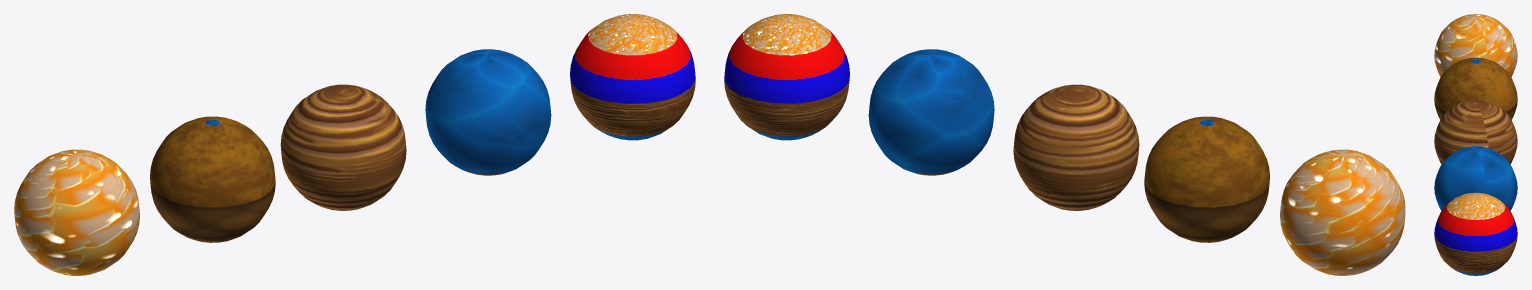
Rendered from boule texture.fbx.
The picture shows the model from 3 angles, left to right: view 1: azimuth 30°, elevation 25°; view 2: azimuth 150°, elevation 25°; view 3: azimuth 270°, elevation 25°; orthographic projection. The views are drawn at different scales.
Parts seen in each view (by area): view 1: pSphere4, pSphere2, pSphere5, pSphere1, pSphere6; view 2: pSphere4, pSphere2, pSphere5, pSphere1, pSphere6; view 3: pSphere1, pSphere5, pSphere2, pSphere6, pSphere4.
Boxes of the visible parts, box(x1,y1,x2,y2) form: pSphere4: box(150, 116, 275, 242); pSphere2: box(425, 49, 551, 175); pSphere5: box(280, 84, 406, 210); pSphere1: box(570, 14, 695, 140); pSphere6: box(14, 149, 139, 275); pSphere4: box(1144, 116, 1269, 242); pSphere2: box(868, 49, 994, 175); pSphere5: box(1013, 84, 1139, 210); pSphere1: box(724, 14, 849, 140); pSphere6: box(1280, 149, 1405, 275); pSphere1: box(1434, 192, 1517, 275); pSphere5: box(1434, 99, 1517, 164); pSphere2: box(1434, 146, 1517, 210); pSphere6: box(1434, 14, 1517, 76); pSphere4: box(1434, 57, 1517, 119).
Size of the model in its own units: 1214 by 200 by 200.
